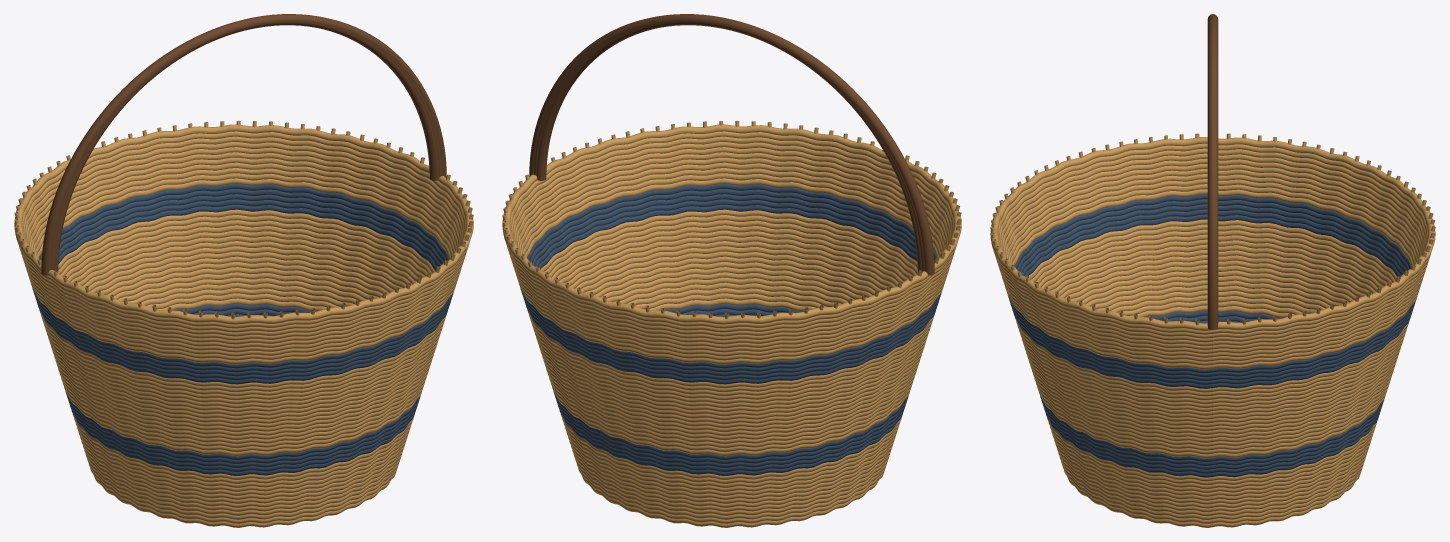
File: bolga-basket.glb
3 renders of one model, left to right at view 1: azimuth 30°, elevation 25°; view 2: azimuth 150°, elevation 25°; view 3: azimuth 270°, elevation 25°, orthographic. The views are drawn at different scales.
Visible parts, largest first — view 1: Woven coil.051, Wrapped handle.002, Woven coil.050, Woven coil.049, Woven coil.048, Woven coil.047, Woven coil.046, Woven coil.045, Woven coil.044, Woven coil.043, Woven coil.042, Woven coil.041 (+43 smaller); view 2: Woven coil.051, Wrapped handle.002, Woven coil.049, Woven coil.050, Woven coil.048, Woven coil.047, Woven coil.046, Woven coil.045, Woven coil.044, Woven coil.043, Woven coil.042, Woven coil.041 (+43 smaller); view 3: Woven coil.051, Woven coil.050, Woven coil.049, Woven coil.048, Woven coil.047, Woven coil.046, Woven coil.045, Woven coil.044, Woven coil.043, Woven coil.042, Woven coil.041, Woven coil.040 (+41 smaller).
Boxes of the visible parts, bbox=[...] form: Woven coil.051: bbox=[14, 124, 473, 324]; Wrapped handle.002: bbox=[41, 14, 446, 275]; Woven coil.050: bbox=[17, 131, 468, 328]; Woven coil.049: bbox=[19, 136, 466, 332]; Woven coil.048: bbox=[21, 142, 465, 336]; Woven coil.047: bbox=[22, 147, 463, 340]; Woven coil.046: bbox=[23, 152, 462, 344]; Woven coil.045: bbox=[25, 157, 461, 348]; Woven coil.044: bbox=[26, 162, 459, 352]; Woven coil.043: bbox=[28, 168, 458, 356]; Woven coil.042: bbox=[29, 173, 456, 360]; Woven coil.041: bbox=[30, 178, 455, 364]; Woven coil.051: bbox=[502, 124, 961, 324]; Wrapped handle.002: bbox=[529, 14, 934, 275]; Woven coil.049: bbox=[507, 136, 954, 332]; Woven coil.050: bbox=[505, 131, 956, 328]; Woven coil.048: bbox=[509, 142, 953, 336]; Woven coil.047: bbox=[510, 147, 951, 340]; Woven coil.046: bbox=[511, 152, 950, 344]; Woven coil.045: bbox=[513, 157, 949, 348]; Woven coil.044: bbox=[514, 162, 947, 352]; Woven coil.043: bbox=[516, 168, 946, 356]; Woven coil.042: bbox=[517, 173, 944, 360]; Woven coil.041: bbox=[518, 178, 943, 364]; Woven coil.051: bbox=[990, 137, 1435, 330]; Woven coil.050: bbox=[993, 143, 1430, 334]; Woven coil.049: bbox=[995, 148, 1428, 338]; Woven coil.048: bbox=[996, 153, 1427, 342]; Woven coil.047: bbox=[998, 158, 1425, 346]; Woven coil.046: bbox=[999, 164, 1424, 350]; Woven coil.045: bbox=[1000, 169, 1423, 353]; Woven coil.044: bbox=[1002, 174, 1421, 357]; Woven coil.043: bbox=[1003, 179, 1420, 361]; Woven coil.042: bbox=[1005, 184, 1419, 365]; Woven coil.041: bbox=[1006, 189, 1417, 369]; Woven coil.040: bbox=[1007, 194, 1416, 373].
Size of the model in its own units: 2.11 by 2.22 by 2.08.
